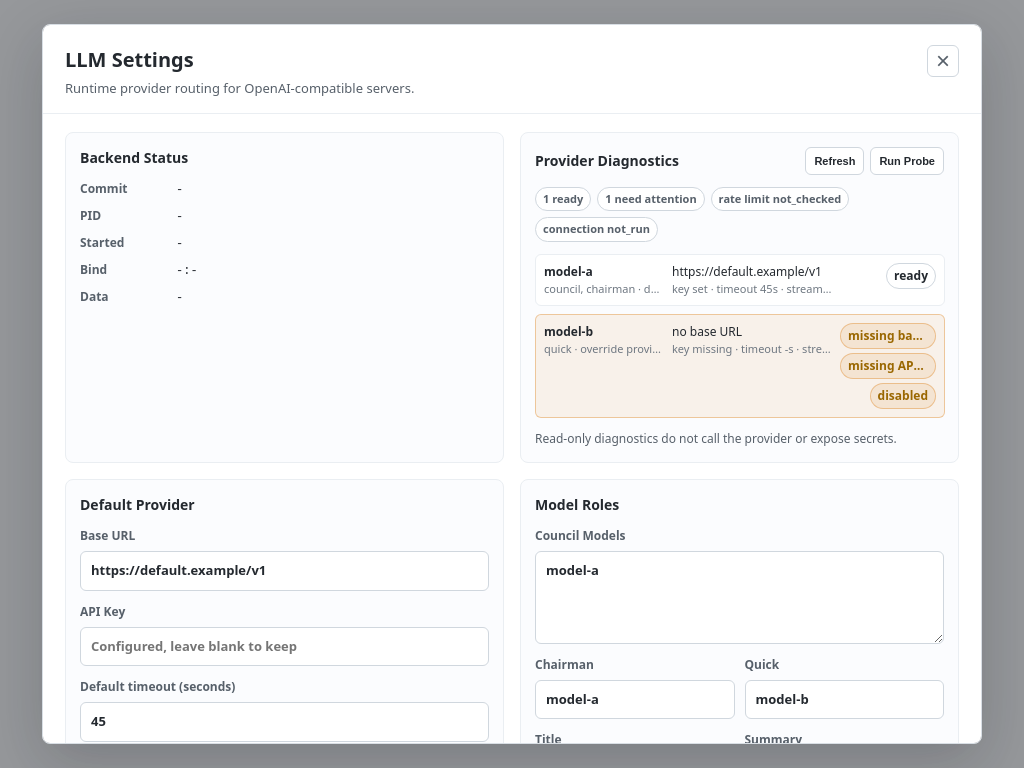
Test case: LLMSettingsModal provider diagnostics › runs an explicit provider probe and renders connection, model list, and rate-limit status
Expected: the heading "Provider Diagnostics" is shown, [535,150,679,171]
What coordinates should you click on to do the following:
click the button "Run Probe"
I would click on:
 (907, 160)
Its box is [870,146,944,174].
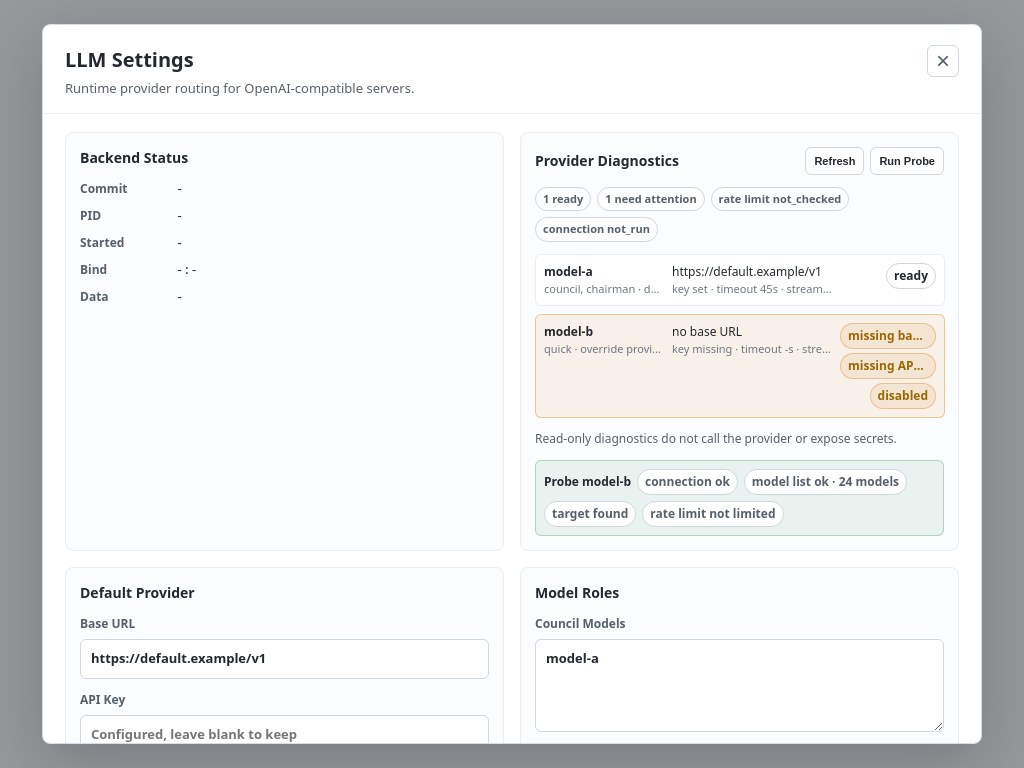
Expected: the element named "Provider probe result" shows "Probe model-b", [535,460,944,536]
Expected: the text "connection ok" is shown, [637,469,738,495]
Expected: the text "model list ok · 24 models" is shown, [744,469,907,495]
